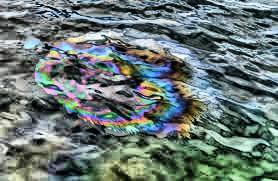rainbow: (36, 42, 199, 136)
